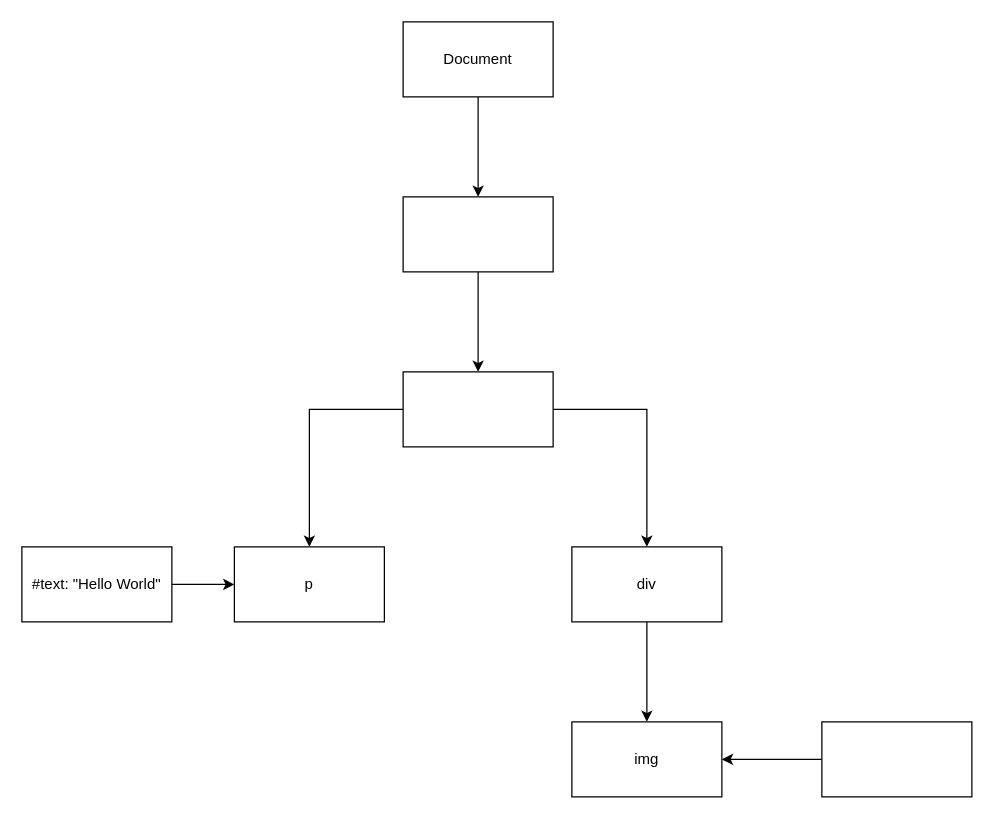
Image size: 994x819. Some labels were removed from this diagram. Here are the shapes that lost their labels. From the top down, the box of each, then its label:
(402, 196, 553, 272): html
(402, 371, 553, 447): body
(821, 721, 972, 797): @src="example.png"
